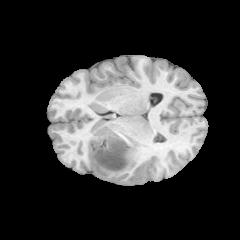glioma: (88, 134, 138, 177)
